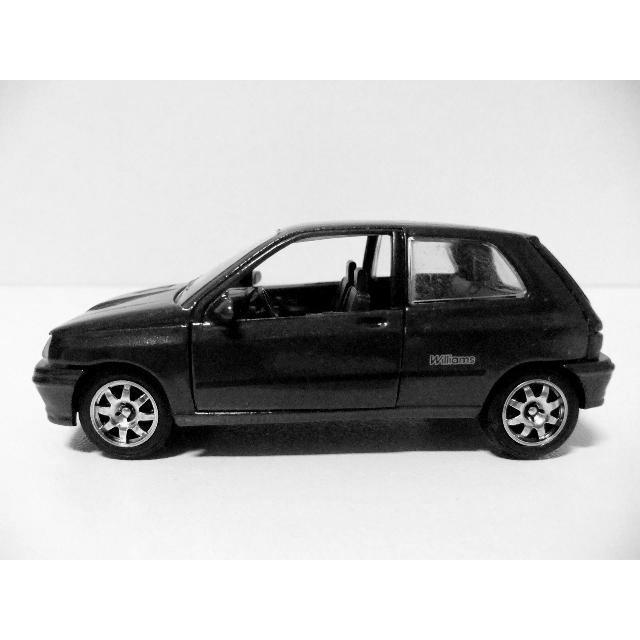doorouter-dent: (240, 237, 398, 370)
